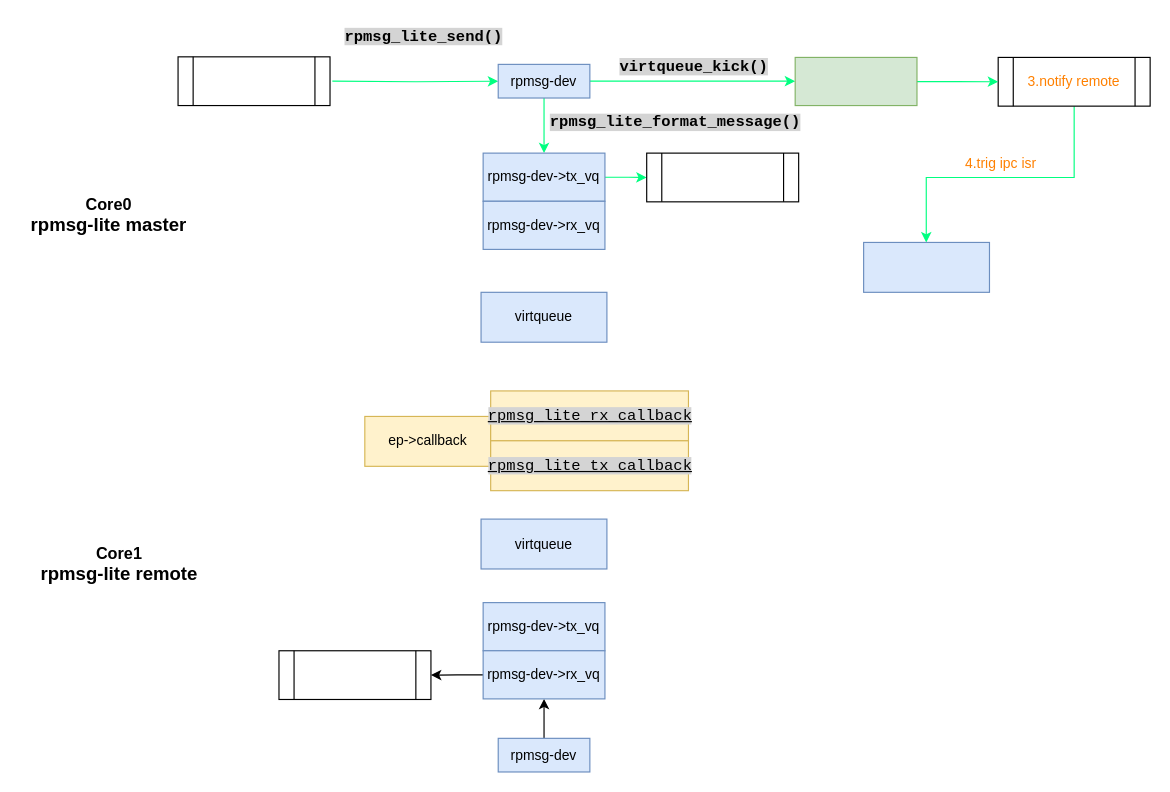
This 1170x792 diagram has some shape labels left out. The centre of each missing label's shape, as x and y in pixels:
"1.write data to rpmsg-dev" belongs at point 253,81.
"2.write data to rpmsg-dev->rx_vq" belongs at point 354,674.
"2.write data to rpmsg-dev->tx_vq" belongs at point 722,177.
"endpoint" belongs at point 925,266.
"platform_notify" belongs at point 855,81.
